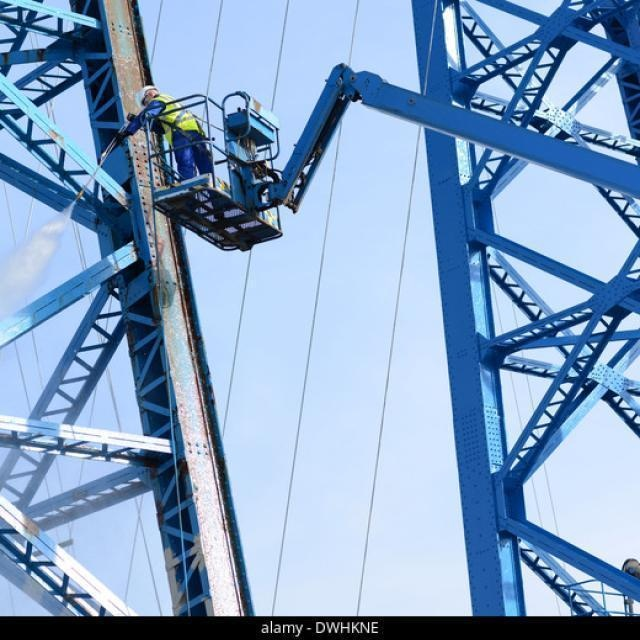Arnes_seguridad: (152, 91, 205, 148)
